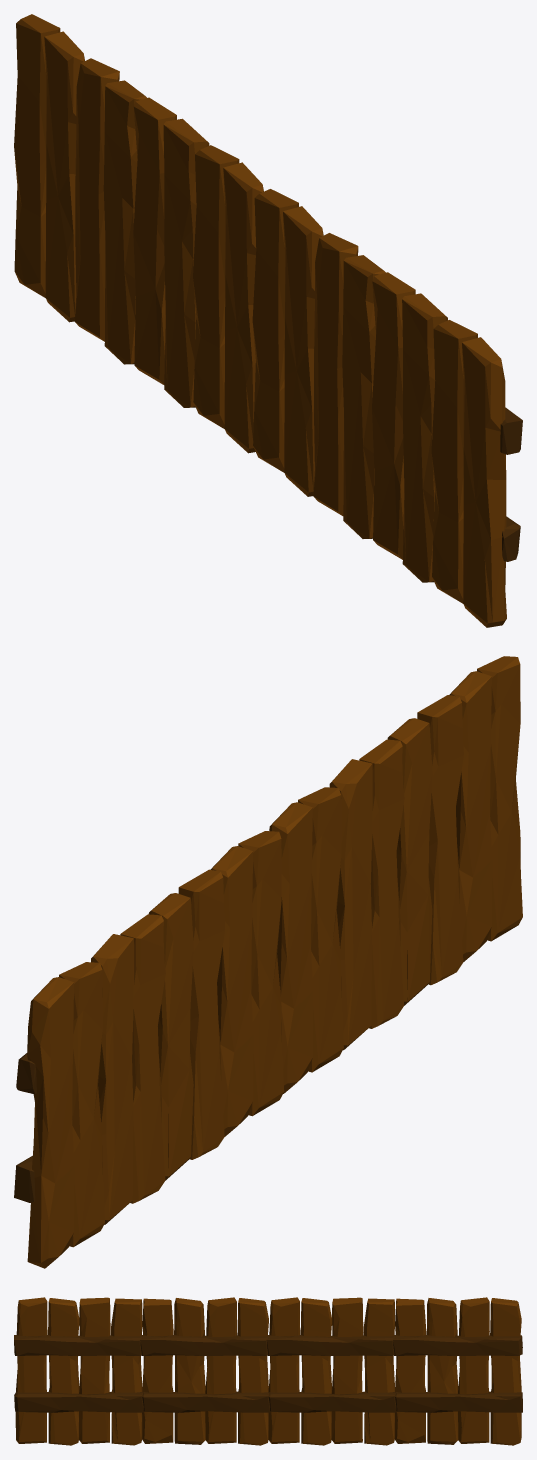
File: PicketFence 4M.fbx
The picture shows the model from 3 angles, top to bottom: view 1: azimuth 30°, elevation 25°; view 2: azimuth 150°, elevation 25°; view 3: azimuth 270°, elevation 25°; orthographic projection. The views are drawn at different scales.
Parts seen in each view (by area): view 1: Cube.020, Cube.045, Cube.021, Cube.051, Cube.022, Cube.028, Cube.046, Cube.044, Cube.050, Cube.043, Cube.019, Cube.048 (+5 smaller); view 2: Cube.050, Cube.047, Cube.023, Cube.027, Cube.043, Cube.019, Cube.045, Cube.021, Cube.024, Cube.048, Cube.022, Cube.046 (+5 smaller); view 3: Cube.045, Cube.021, Cube.051, Cube.028, Cube.050, Cube.047, Cube.024, Cube.023, Cube.019, Cube.043, Cube.044, Cube.020 (+12 smaller).
Part boxes in pixels (<box>): Cube.020: <box>462,337,506,627</box>; Cube.045: <box>163,118,209,407</box>; Cube.021: <box>402,293,447,582</box>; Cube.051: <box>44,31,84,322</box>; Cube.022: <box>342,255,385,538</box>; Cube.028: <box>283,206,323,496</box>; Cube.046: <box>103,80,146,364</box>; Cube.044: <box>223,162,263,453</box>; Cube.050: <box>14,14,60,298</box>; Cube.043: <box>193,145,239,428</box>; Cube.019: <box>431,320,477,603</box>; Cube.048: <box>133,97,176,384</box>; Cube.050: <box>27,977,74,1268</box>; Cube.047: <box>91,934,133,1224</box>; Cube.023: <box>329,759,372,1050</box>; Cube.027: <box>269,802,312,1093</box>; Cube.043: <box>210,846,253,1136</box>; Cube.019: <box>449,671,492,961</box>; Cube.045: <box>178,869,224,1159</box>; Cube.021: <box>417,695,463,985</box>; Cube.024: <box>387,718,432,1005</box>; Cube.048: <box>148,893,193,1180</box>; Cube.022: <box>359,739,404,1028</box>; Cube.046: <box>120,914,165,1203</box>; Cube.045: <box>331,1297,363,1443</box>; Cube.021: <box>79,1297,110,1443</box>; Cube.051: <box>458,1297,489,1443</box>; Cube.028: <box>205,1297,236,1443</box>; Cube.050: <box>490,1298,521,1445</box>; Cube.047: <box>426,1298,458,1444</box>; Cube.024: <box>111,1298,142,1445</box>; Cube.023: <box>174,1298,205,1444</box>; Cube.019: <box>48,1298,79,1445</box>; Cube.043: <box>300,1298,331,1445</box>; Cube.044: <box>268,1297,300,1443</box>; Cube.020: <box>15,1297,47,1443</box>.
Size of the model in its own units: 32.21 by 250 by 806.
